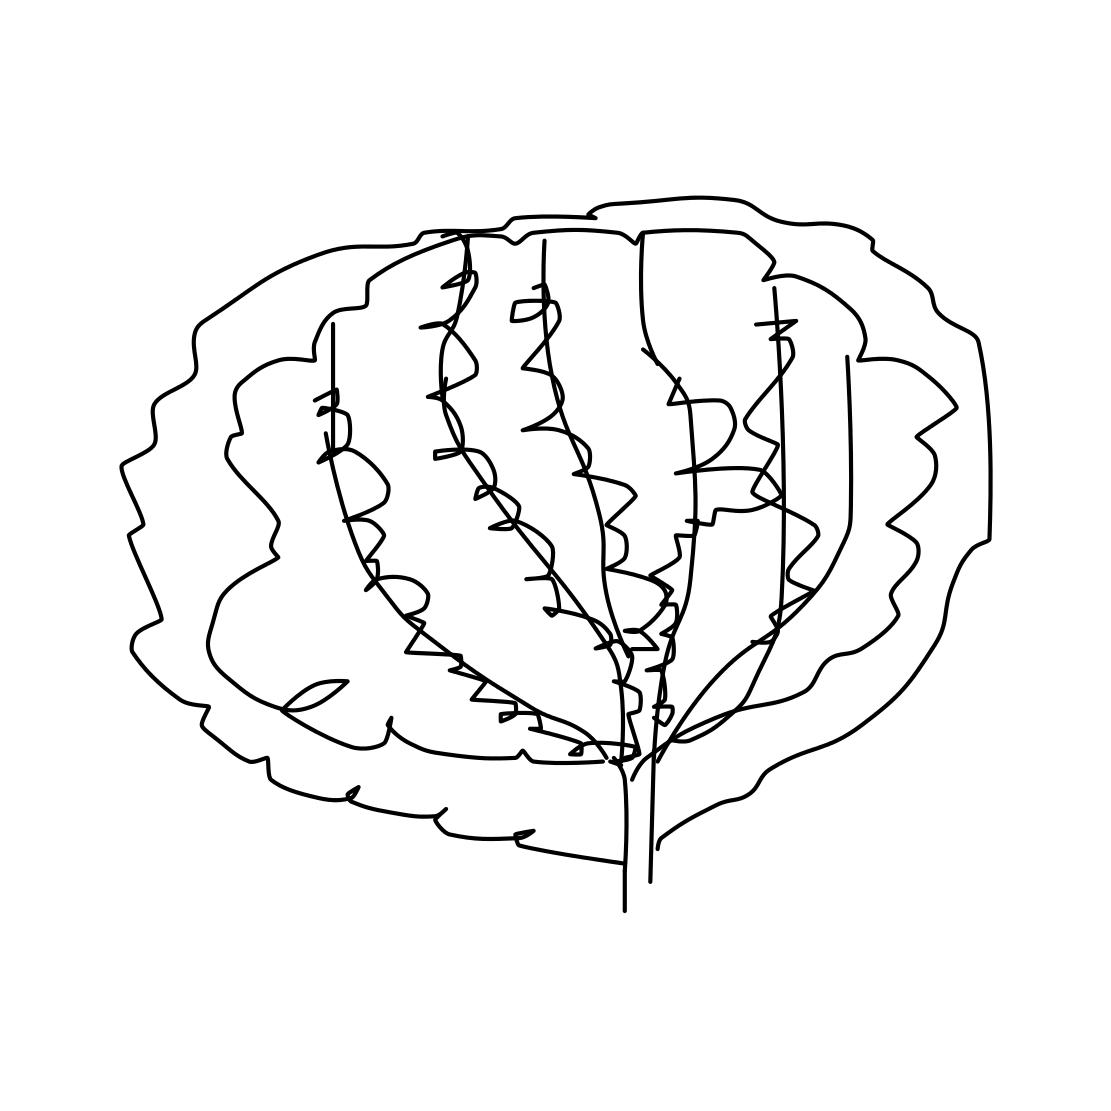Tree: (105, 134, 1015, 961)
